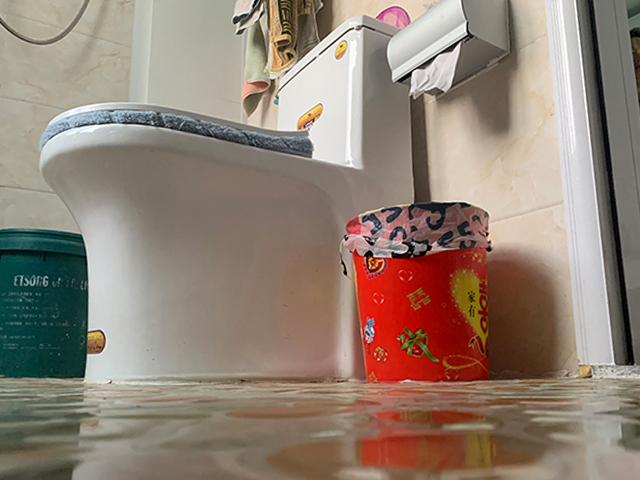closestool: (37, 13, 413, 382)
trashcan: (345, 200, 494, 384)
